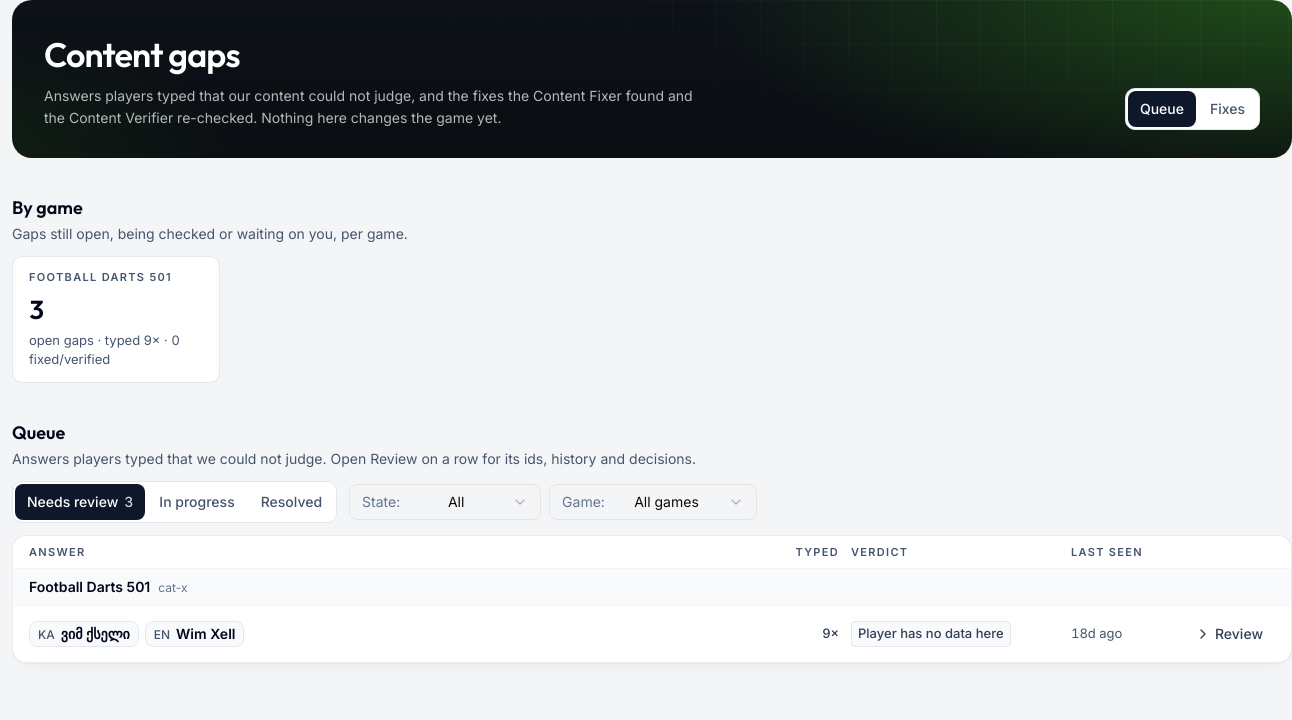
a malformed or non-web source stays plain text and the fix stays actionable
Click the tab "Fixes": (1228, 109) [1198,91,1257,127]
(page scrolled)
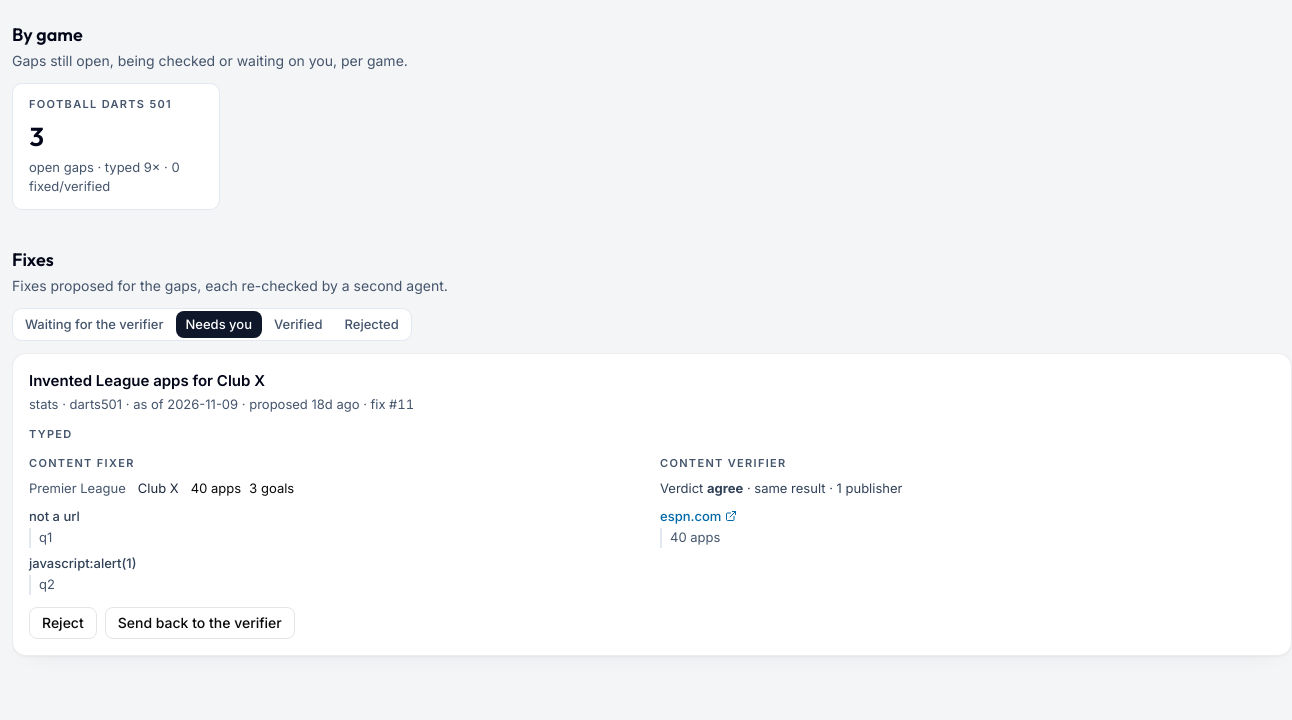
Expected: the text "not a url" is shown, [29,508,80,524]
Expected: the button "Reject" is shown, [29,606,97,638]
